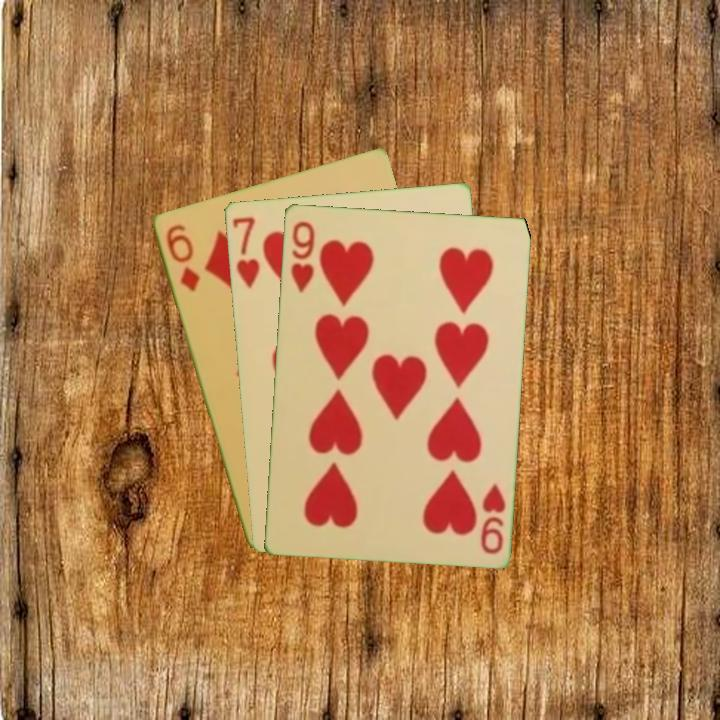6d: (162, 220, 203, 294)
7h: (228, 213, 263, 291)
9h: (286, 217, 317, 295), (477, 479, 508, 557)
